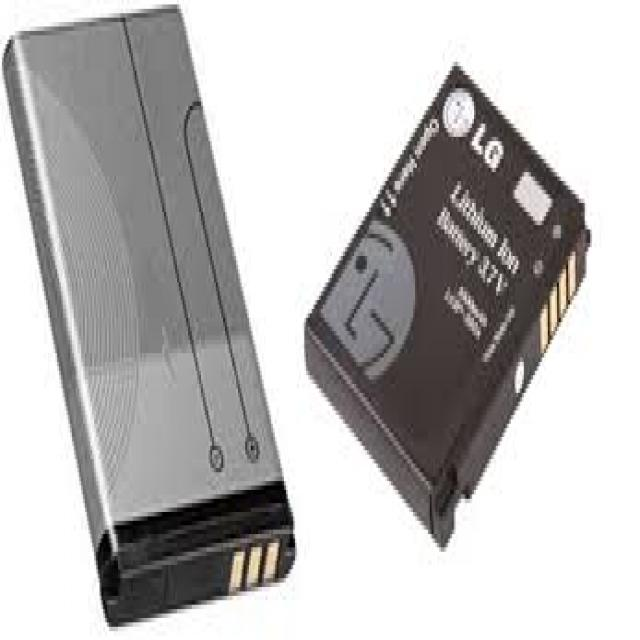non-organic waste: (2, 5, 297, 623), (304, 62, 591, 550)
